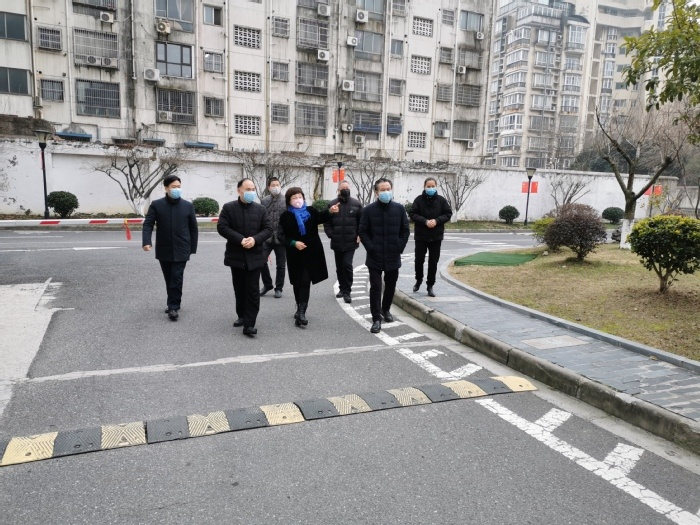correctlyWear: (238, 184, 258, 205), (373, 183, 395, 202), (166, 180, 183, 200), (287, 191, 304, 208), (268, 180, 283, 196), (337, 184, 352, 200), (423, 181, 437, 196)
